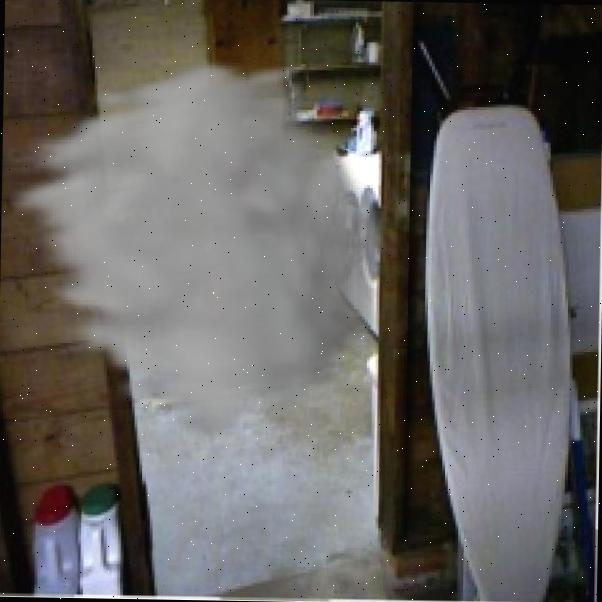smoke: (0, 54, 398, 446)
